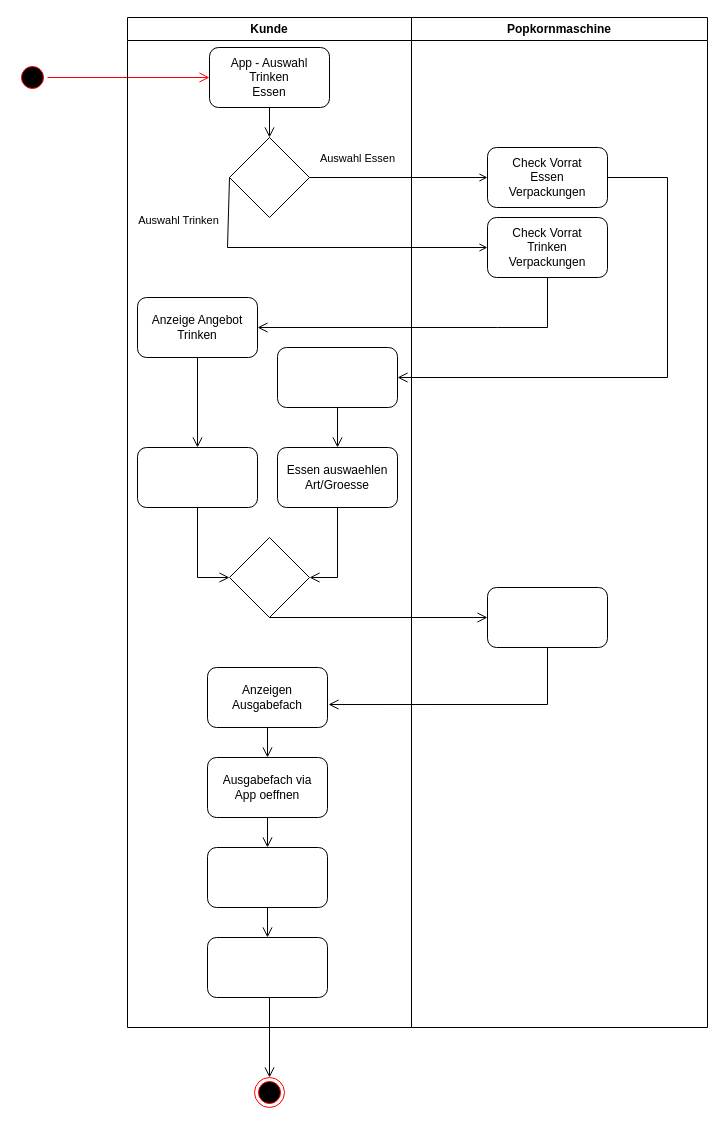
This 725x1125 diagram has some shape labels left out. The shapes that lost their labels are listed below. From the top down, each one's box as (x1, y1, x2, y2) in pixels, then its label:
(276, 346, 398, 408): Anzeige Angebot Essen
(136, 446, 258, 508): Trinken auswaehlen Art/Groesse
(486, 586, 608, 648): Zubereitung Essen/Trinken
(206, 846, 328, 908): Ausgabefach schliessen
(206, 936, 328, 998): Belastung Kundenkonto
